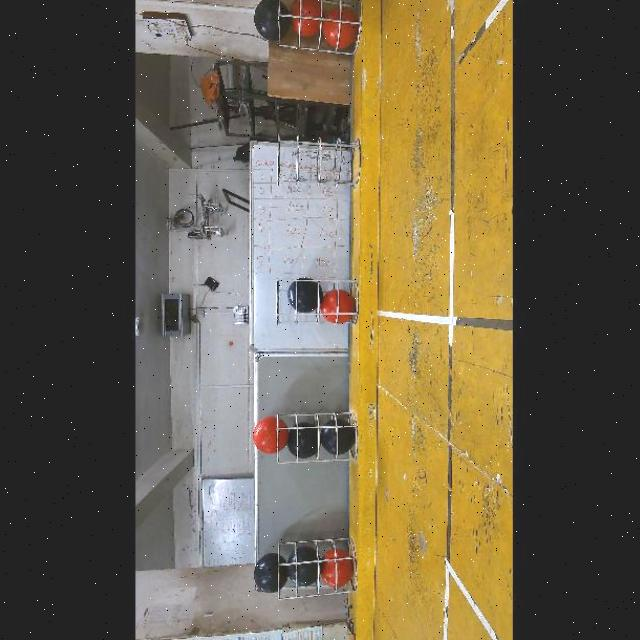P: (253, 0, 291, 41), (253, 553, 287, 593), (287, 546, 319, 587), (319, 418, 355, 454), (287, 277, 321, 313), (287, 423, 318, 460)
R: (322, 6, 357, 48), (253, 417, 290, 454), (319, 549, 354, 588), (290, 0, 323, 38), (319, 289, 355, 323)
S: (274, 535, 358, 603), (276, 0, 364, 58), (272, 132, 362, 188), (274, 409, 360, 466), (274, 278, 360, 326)
